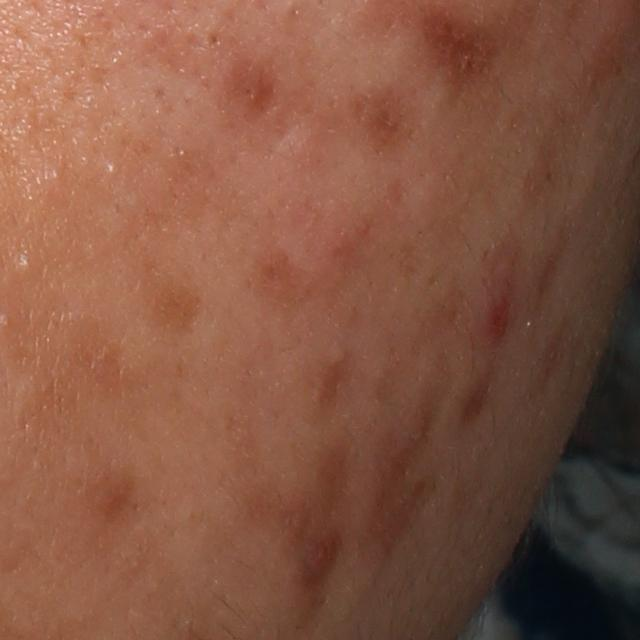comedo: (3, 245, 37, 280), (203, 27, 229, 55)
papule: (471, 287, 518, 346)
